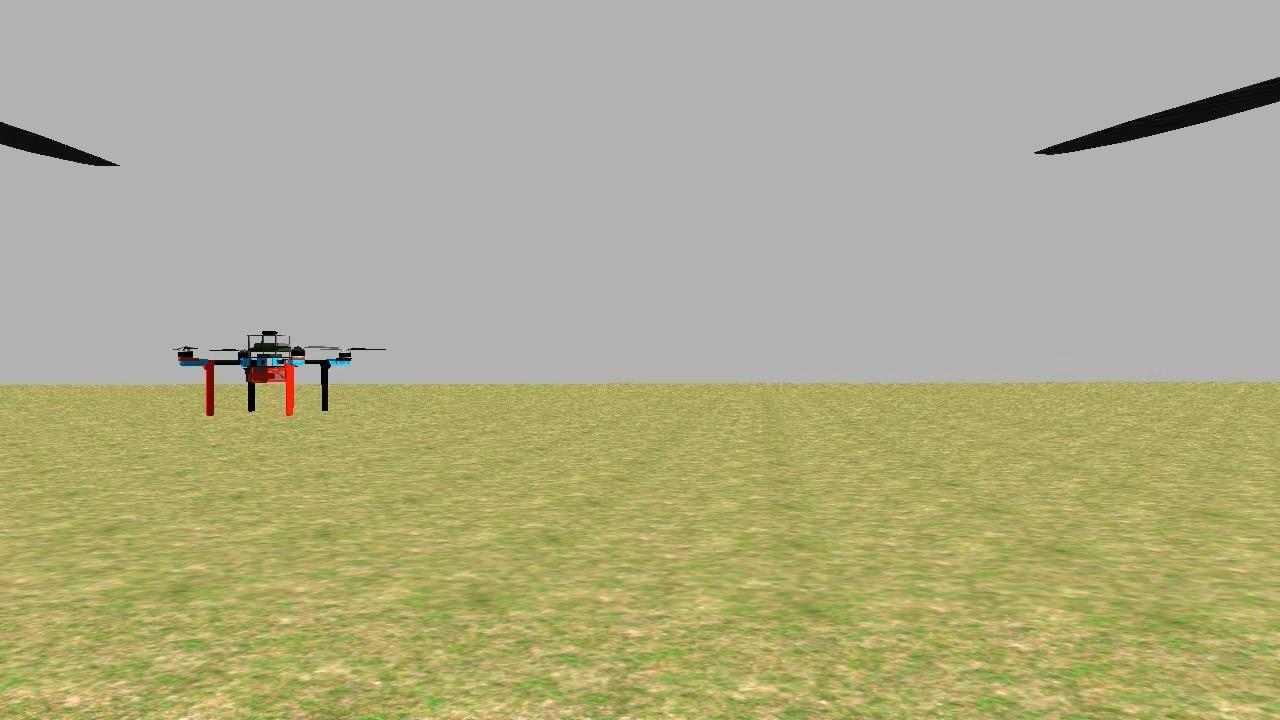UAV: (170, 307, 358, 436)
